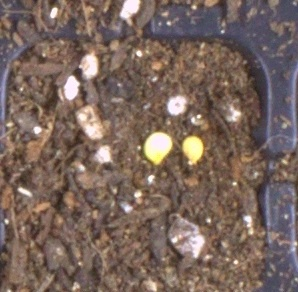chilli seed: (143, 131, 172, 165), (181, 135, 204, 164)
